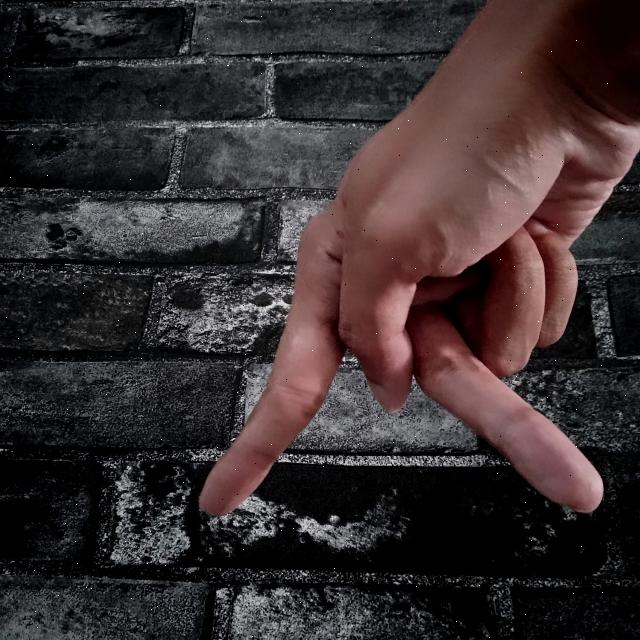P: (192, 0, 640, 522)
